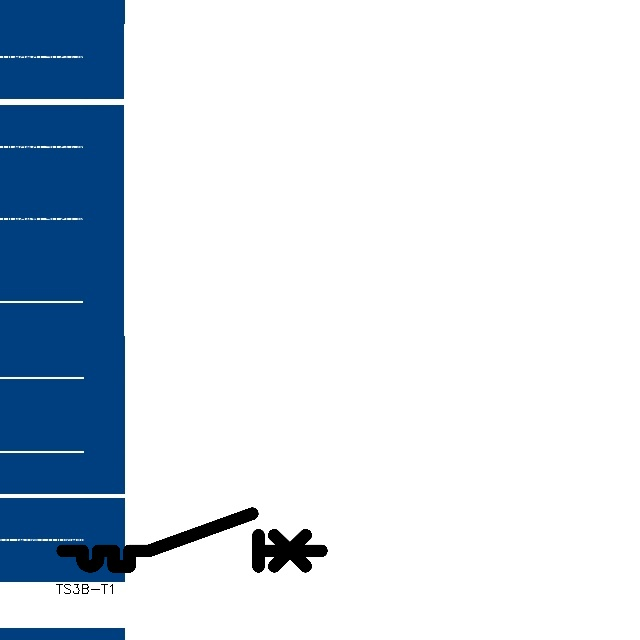interruptor_termomagnetico: (56, 507, 328, 573)
